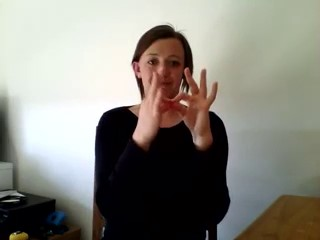B: (126, 66, 219, 140)
